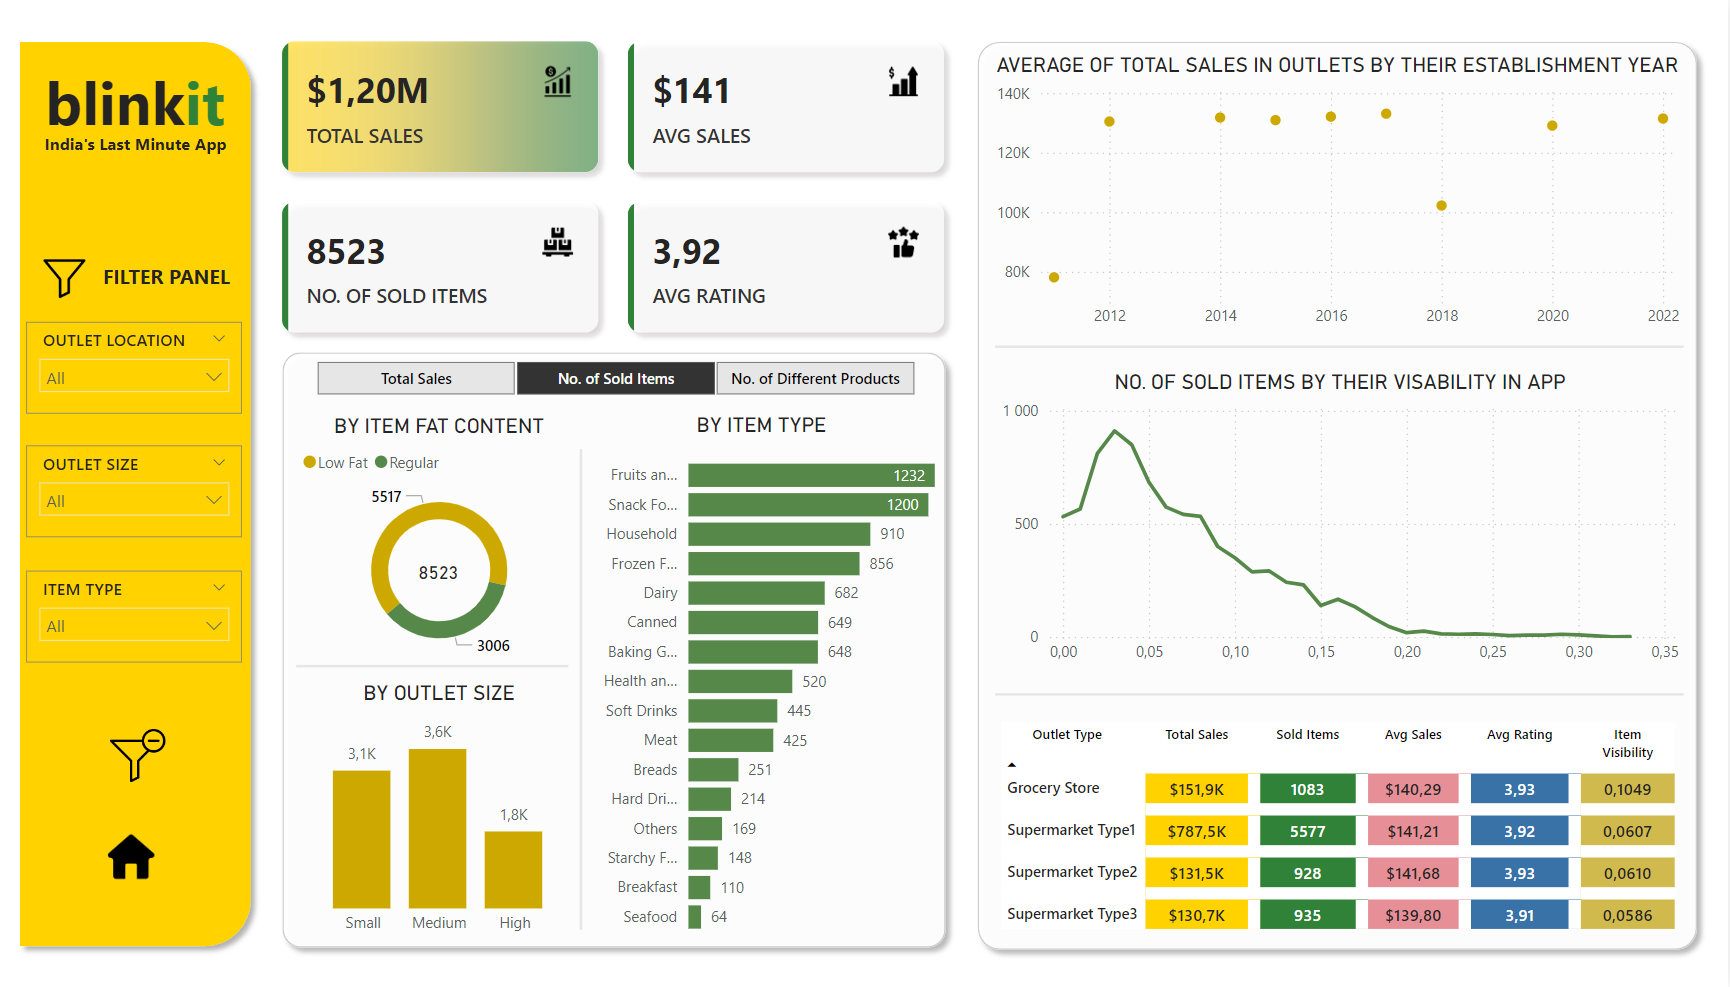

The dashboard page shown, as its layout file describes it:
{"tool":"powerbi","page":{"name":"blinkit","canvas":[1400,800],"ordinal":0},"visuals":[{"type":"shape","box":[8.3,26.2,205.1,750.2],"z":0},{"type":"textbox","box":[28,46.2,164.9,74.2],"z":1000},{"type":"textbox","box":[25,102.2,171.5,31.3],"z":2000},{"type":"shape","box":[221.6,276.7,554.7,499.7],"z":3000},{"type":"donutChart","title":"BY ITEM FAT CONTENT","fields":{"Y":["BlinkIT Grocery Data.No. of Sold Items"],"Category":["BlinkIT Grocery Data.Item Fat Content"]},"box":[240.9,335.9,231.3,206.5],"z":4000},{"type":"slicer","fields":{"Values":["Metrics.Metrics"]},"box":[232.6,287.7,532.7,39.9],"z":5000},{"type":"clusteredBarChart","title":"BY ITEM TYPE","fields":{"Y":["BlinkIT Grocery Data.No. of Sold Items"],"Category":["BlinkIT Grocery Data.Item Type"]},"box":[472.1,334,290.4,433],"z":6000},{"type":"clusteredColumnChart","title":"BY OUTLET SIZE","fields":{"Y":["BlinkIT Grocery Data.No. of Sold Items"],"Category":["BlinkIT Grocery Data.Outlet Size"]},"box":[240.9,552,231.2,214.7],"z":7000},{"type":"cardVisual","fields":{"Data":["BlinkIT Grocery Data.Total Sales","BlinkIT Grocery Data.Avg Sales","BlinkIT Grocery Data.No. of Items","BlinkIT Grocery Data.Avg Rating"]},"box":[213.4,16.5,571.2,271.2],"z":8000},{"type":"cardVisual","fields":{"Data":["BlinkIT Grocery Data.No. of Sold Items"]},"box":[301,417,110.1,92.2],"z":9000},{"type":"shape","box":[784.6,26.2,600.2,753],"z":10000},{"type":"lineChart","title":"AVERAGE OF TOTAL SALES IN OUTLETS BY THEIR ESTABLISHMENT YEAR","fields":{"Category":["BlinkIT Grocery Data – OUTLETS.Outlet Establishment Year"],"Y":["Avg(BlinkIT Grocery Data – OUTLETS.Total Sales in Particular Outlet)"]},"box":[803,43,563,232],"z":11000},{"type":"lineChart","title":"NO. OF SOLD ITEMS BY THEIR VISABILITY IN APP","fields":{"Category":["BlinkIT Grocery Data.Item Visibility (rounded)"],"Y":["CountNonNull(BlinkIT Grocery Data.Item Visibility (rounded))"]},"box":[806.6,300.1,558.9,246.4],"z":12000},{"type":"shape","box":[240.9,524.5,220.2,31.7],"z":13000},{"type":"shape","box":[447.4,364.8,49.6,389.6],"z":14000},{"type":"shape","box":[806.6,265.7,557.5,31.7],"z":15000},{"type":"pivotTable","fields":{"Rows":["BlinkIT Grocery Data.Outlet Type"],"Values":["BlinkIT Grocery Data.Total Sales","BlinkIT Grocery Data.No. of Sold Items","BlinkIT Grocery Data.Avg Sales","BlinkIT Grocery Data.Avg Rating","Avg(BlinkIT Grocery Data.Item Visibility)"]},"box":[806.6,579.5,557.5,181.7],"z":16000},{"type":"shape","box":[806.6,547.9,557.5,31.7],"z":17000},{"type":"slicer","fields":{"Values":["BlinkIT Grocery Data.Outlet Location Type"]},"box":[23,261.5,174.8,74.3],"z":18000},{"type":"slicer","fields":{"Values":["BlinkIT Grocery Data.Outlet Size"]},"box":[23.4,362,174.8,74.3],"z":19000},{"type":"slicer","fields":{"Values":["BlinkIT Grocery Data.Item Type"]},"box":[23.4,462.5,174.8,74.3],"z":20000},{"type":"image","box":[27.5,203.7,53.7,44],"z":21000},{"type":"textbox","box":[75.7,209.2,121.1,33],"z":22000},{"type":"image","box":[53.7,560.2,112.9,106],"z":23000},{"type":"image","box":[67.4,652.5,79.8,82.6],"z":24000}]}

Visuals, with their boxes in screenshot pixels (x1, y1, x2, y2), scaled from the page's 1400x800 canvas onto the 1730x987 screenshot:
shape: [left=10, top=32, right=264, bottom=958]
textbox: [left=35, top=57, right=238, bottom=149]
textbox: [left=31, top=126, right=243, bottom=165]
shape: [left=274, top=341, right=959, bottom=958]
"BY ITEM FAT CONTENT" donutChart: [left=298, top=414, right=584, bottom=669]
slicer - Metrics.Metrics: [left=287, top=355, right=946, bottom=404]
"BY ITEM TYPE" clusteredBarChart: [left=583, top=412, right=942, bottom=946]
"BY OUTLET SIZE" clusteredColumnChart: [left=298, top=681, right=583, bottom=946]
cardVisual - BlinkIT Grocery Data.Total Sales x BlinkIT Grocery Data.Avg Sales: [left=264, top=20, right=970, bottom=355]
cardVisual - BlinkIT Grocery Data.No. of Sold Items: [left=372, top=514, right=508, bottom=628]
shape: [left=970, top=32, right=1711, bottom=961]
"AVERAGE OF TOTAL SALES IN OUTLETS BY THEIR ESTABLISHMENT YEAR" lineChart: [left=992, top=53, right=1688, bottom=339]
"NO. OF SOLD ITEMS BY THEIR VISABILITY IN APP" lineChart: [left=997, top=370, right=1687, bottom=674]
shape: [left=298, top=647, right=570, bottom=686]
shape: [left=553, top=450, right=614, bottom=931]
shape: [left=997, top=328, right=1686, bottom=367]
pivotTable - BlinkIT Grocery Data.Outlet Type x BlinkIT Grocery Data.Total Sales: [left=997, top=715, right=1686, bottom=939]
shape: [left=997, top=676, right=1686, bottom=715]
slicer - BlinkIT Grocery Data.Outlet Location Type: [left=28, top=323, right=244, bottom=414]
slicer - BlinkIT Grocery Data.Outlet Size: [left=29, top=447, right=245, bottom=538]
slicer - BlinkIT Grocery Data.Item Type: [left=29, top=571, right=245, bottom=662]
image: [left=34, top=251, right=100, bottom=306]
textbox: [left=94, top=258, right=243, bottom=299]
image: [left=66, top=691, right=206, bottom=822]
image: [left=83, top=805, right=182, bottom=907]
